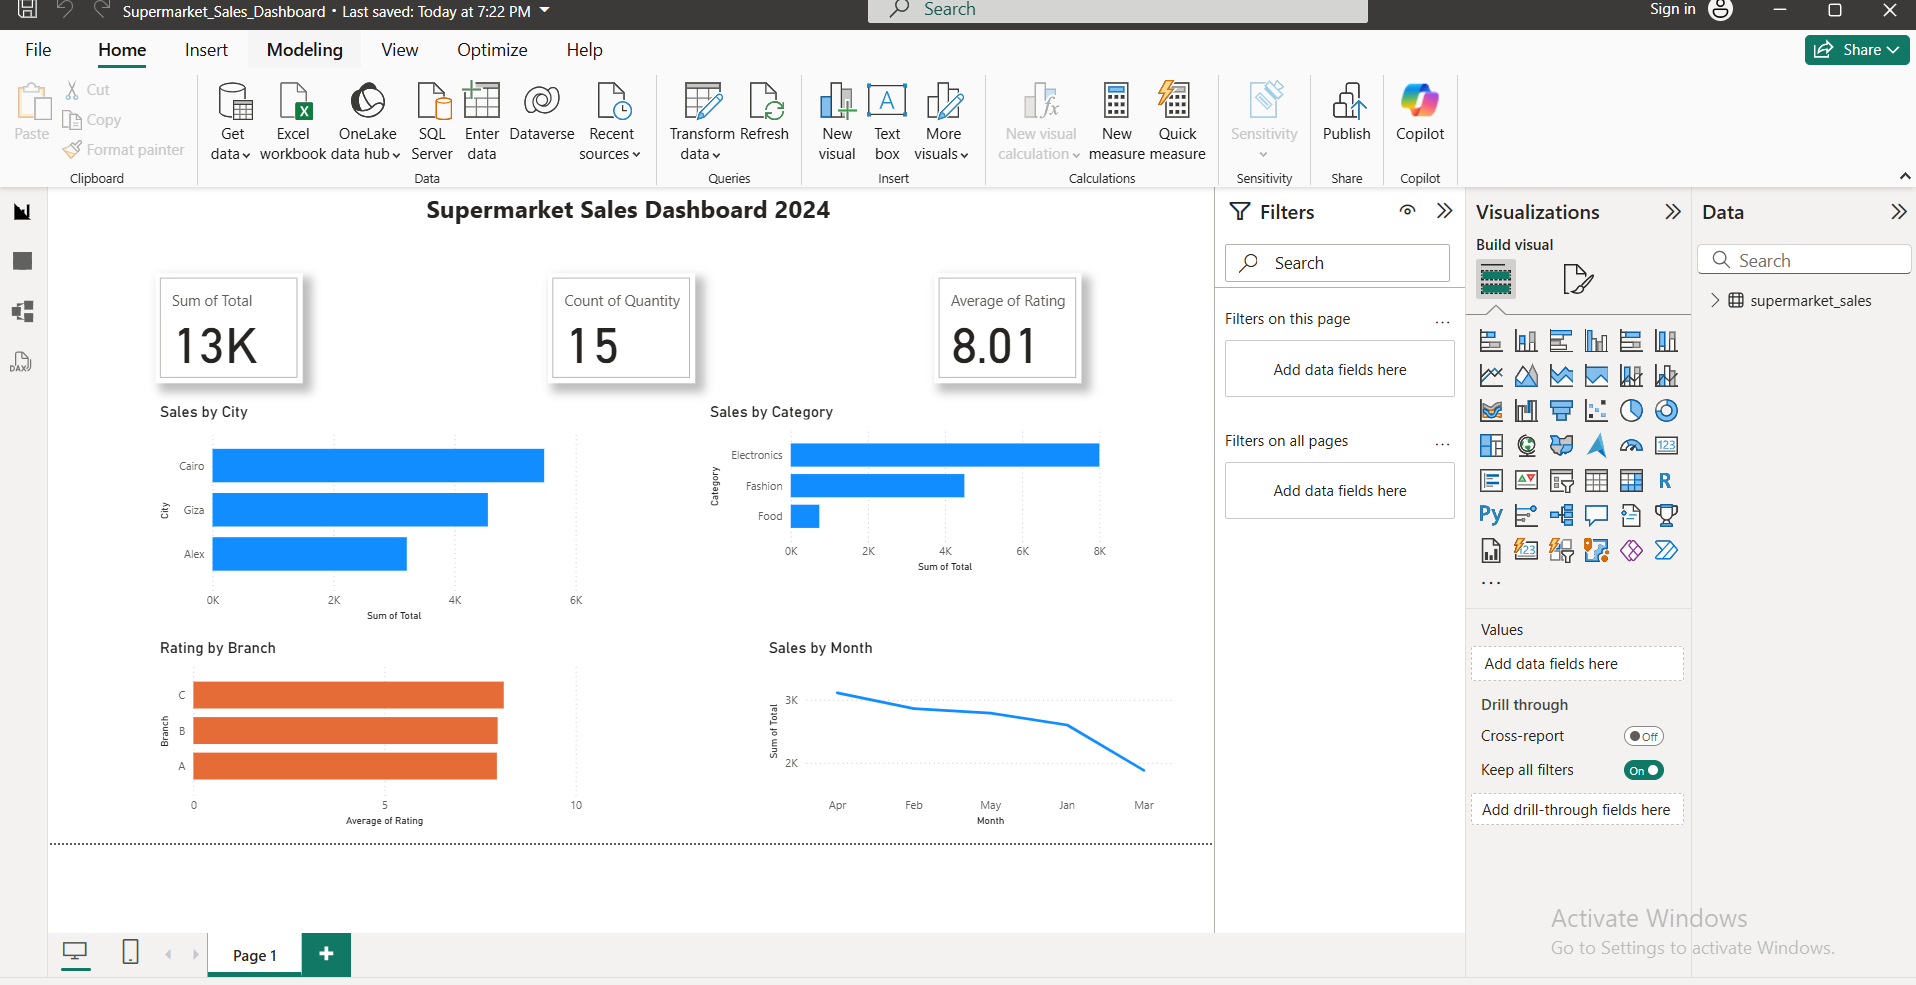

What the dashboard file says about the page in this screenshot:
{"tool":"powerbi","page":{"name":"Page 1","canvas":[1280,720],"ordinal":0},"visuals":[{"type":"cardVisual","fields":{"Data":["Sum(supermarket_sales.Total)"]},"box":[118,94.7,161.9,120.8],"z":0},{"type":"cardVisual","fields":{"Data":["CountNonNull(supermarket_sales.Quantity)"]},"box":[548.9,94.7,161.9,120.8],"z":1},{"type":"cardVisual","fields":{"Data":["Avg(supermarket_sales.Rating)"]},"box":[972.9,94.7,161.9,120.8],"z":2},{"type":"clusteredBarChart","title":"Sales by City","fields":{"Category":["supermarket_sales.City"],"Y":["Sum(supermarket_sales.Total)"]},"box":[118,236,473.4,245.6],"z":3},{"type":"clusteredBarChart","title":"Sales by Category","fields":{"Y":["Sum(supermarket_sales.Total)"],"Category":["supermarket_sales.Category"]},"box":[721.8,236,444.6,192.1],"z":4},{"type":"lineChart","title":"Sales by Month","fields":{"Y":["Sum(supermarket_sales.Total)"],"Category":["supermarket_sales.Month"]},"box":[786.3,495.4,455.6,211.3],"z":5},{"type":"clusteredBarChart","title":" Rating by Branch","fields":{"Category":["supermarket_sales.Branch"],"Y":["Avg(supermarket_sales.Rating)"]},"box":[118,495.4,473.4,211.3],"z":6},{"type":"textbox","box":[27.4,0,1204.8,75.5],"z":7},{"type":"textbox","box":[591,495,150,211],"z":8}]}

Visuals, with their boxes on the page's 1280x720 design canvas (x1, y1, x2, y2). These are canvas units, not pixel positions in the 1916x985 screenshot, which may show the page scaled, cropped or inside an application window:
cardVisual - Sum(supermarket_sales.Total): pyautogui.locateOnScreen(118, 95, 280, 216)
cardVisual - CountNonNull(supermarket_sales.Quantity): pyautogui.locateOnScreen(549, 95, 711, 216)
cardVisual - Avg(supermarket_sales.Rating): pyautogui.locateOnScreen(973, 95, 1135, 216)
"Sales by City" clusteredBarChart: pyautogui.locateOnScreen(118, 236, 591, 482)
"Sales by Category" clusteredBarChart: pyautogui.locateOnScreen(722, 236, 1166, 428)
"Sales by Month" lineChart: pyautogui.locateOnScreen(786, 495, 1242, 707)
" Rating by Branch" clusteredBarChart: pyautogui.locateOnScreen(118, 495, 591, 707)
textbox: pyautogui.locateOnScreen(27, 0, 1232, 76)
textbox: pyautogui.locateOnScreen(591, 495, 741, 706)
